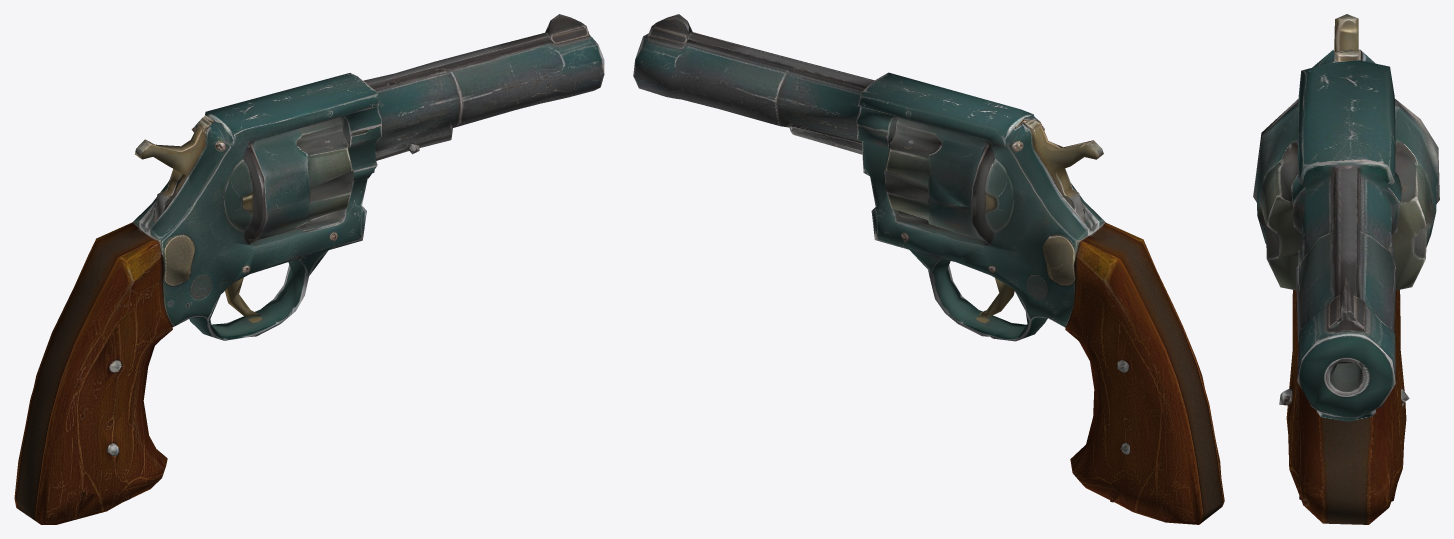
File: weapon_revolver_1500.glb
The picture shows the model from 3 angles, left to right: view 1: azimuth 30°, elevation 25°; view 2: azimuth 150°, elevation 25°; view 3: azimuth 270°, elevation 25°; orthographic projection. The views are drawn at different scales.
Visible parts, largest first — view 1: tripo_node_e9b8ea17-aa46-46ad-8ebe-af708c24899a; view 2: tripo_node_e9b8ea17-aa46-46ad-8ebe-af708c24899a; view 3: tripo_node_e9b8ea17-aa46-46ad-8ebe-af708c24899a.
Boxes of the visible parts, x1,y1,x2,y2 form: tripo_node_e9b8ea17-aa46-46ad-8ebe-af708c24899a: (14, 14, 604, 524); tripo_node_e9b8ea17-aa46-46ad-8ebe-af708c24899a: (633, 14, 1224, 524); tripo_node_e9b8ea17-aa46-46ad-8ebe-af708c24899a: (1253, 14, 1439, 524).
Bounding box in the file's own units: 0.9787 × 0.6184 × 0.1869.
1 material, 1 textured.
